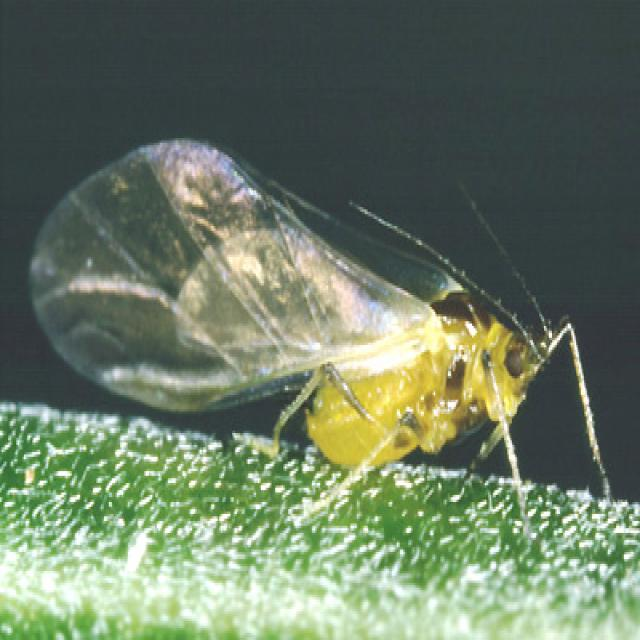Aphid-Grown-have wings-: (23, 124, 596, 517)
